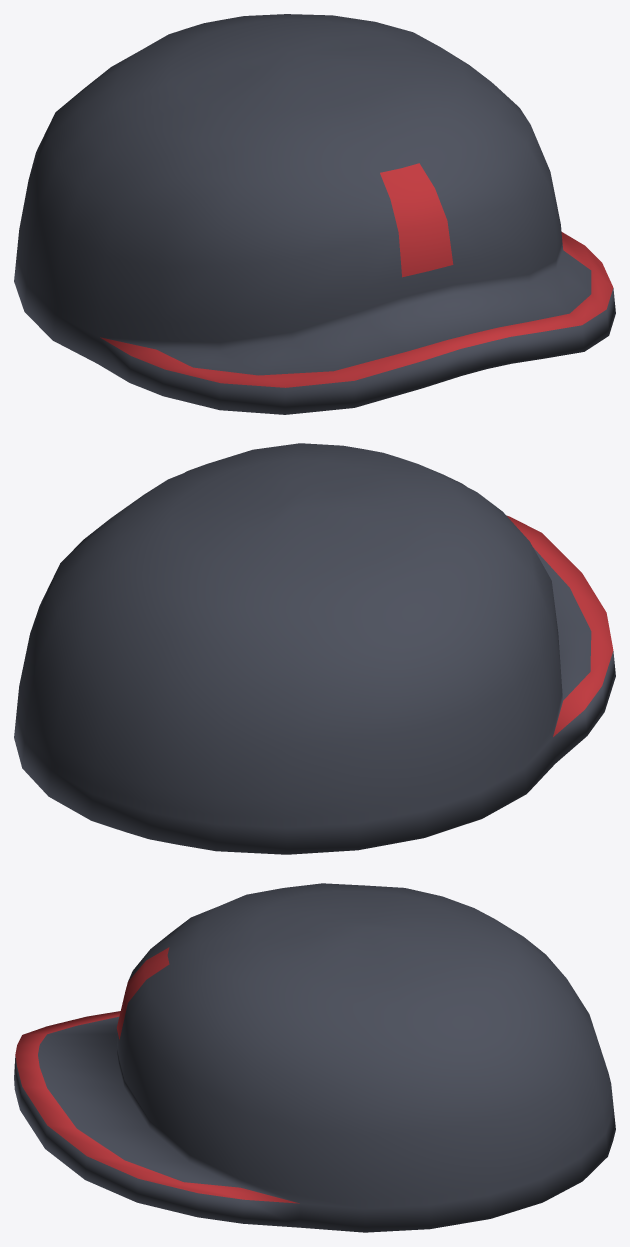
File: Player_Cap.fbx
3 views of the same model, one above another, from view 1: azimuth 30°, elevation 25°; view 2: azimuth 150°, elevation 25°; view 3: azimuth 270°, elevation 25° (orthographic). The views are drawn at different scales.
Parts seen in each view (by area): view 1: Player_Cap; view 2: Player_Cap; view 3: Player_Cap.
Boxes of the visible parts, x1,y1,x2,y2 form: Player_Cap: [14, 14, 615, 414]; Player_Cap: [14, 443, 615, 854]; Player_Cap: [14, 883, 615, 1232].
Size of the model in its own units: 186 by 86.79 by 229.
